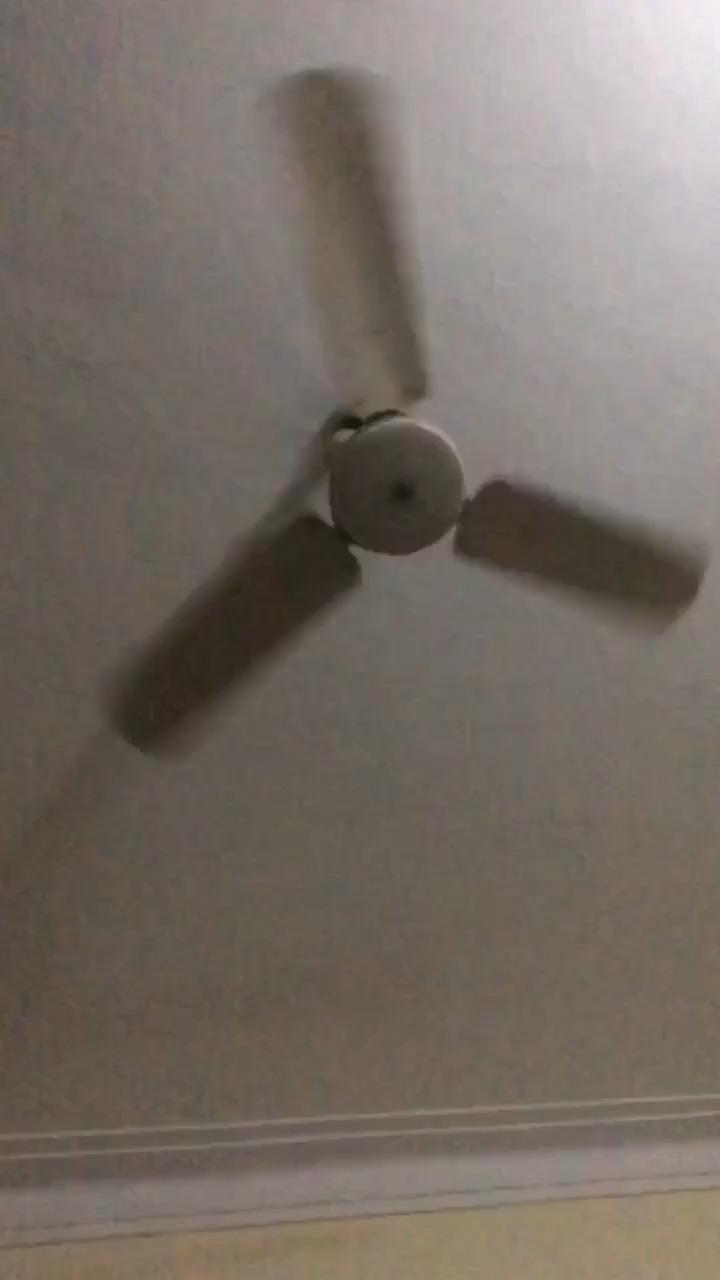fan: (101, 62, 705, 756)
light: (321, 408, 464, 556)
